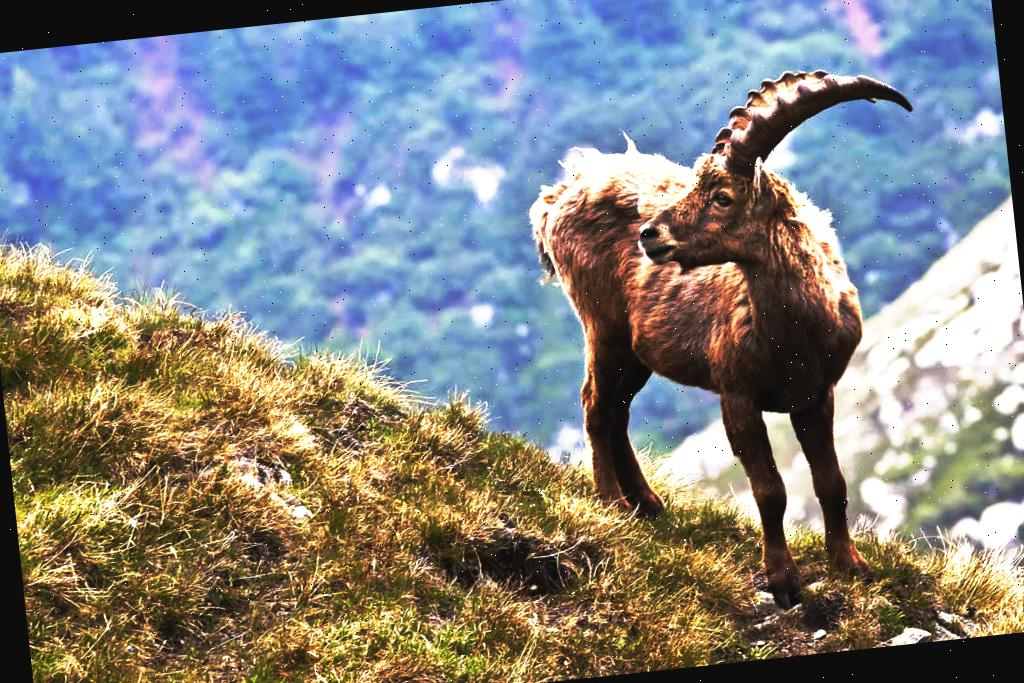Sheep: (512, 53, 966, 633)
